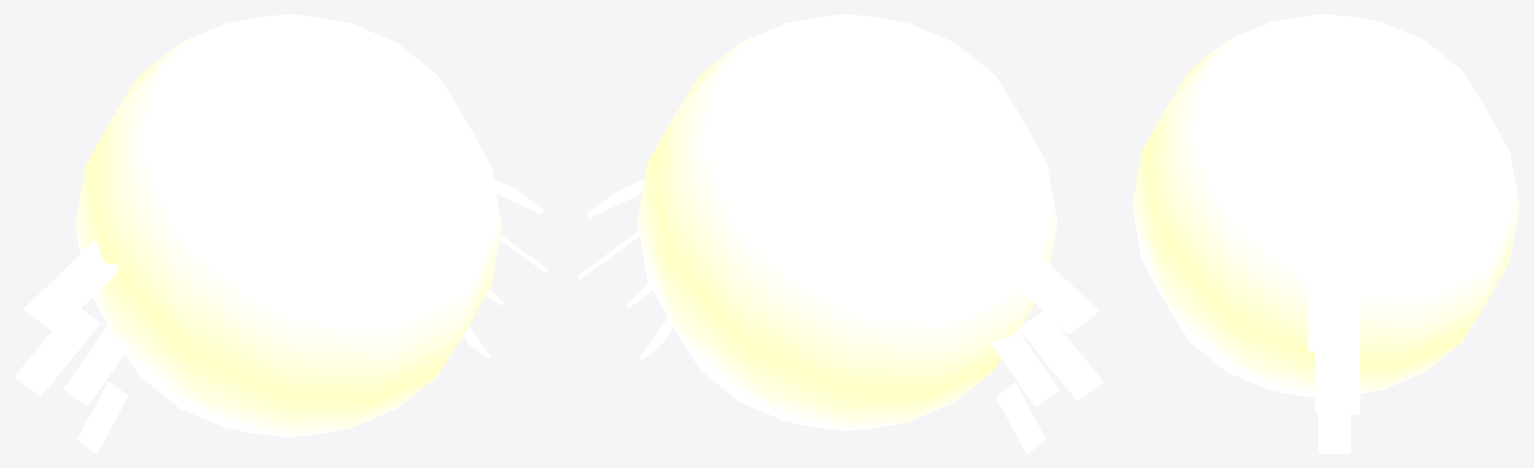
The model's file is catgod.glb.
3 renders of one model, left to right at view 1: azimuth 30°, elevation 25°; view 2: azimuth 150°, elevation 25°; view 3: azimuth 270°, elevation 25°, orthographic. The views are drawn at different scales.
Parts seen in each view (by area): view 1: aura, wing-hi-l, wing-hi-2-l, wing-lo-l, wing-lo-2-l, wing-hi-r; view 2: aura, wing-hi-l, wing-hi-2-l, wing-lo-l, wing-lo-2-l, wing-hi-r; view 3: aura, wing-hi-r, wing-hi-2-r, wing-lo-2-r.
Boxes of the visible parts, box(x1,y1,x2,y2) form: aura: box(75, 14, 501, 437); wing-hi-l: box(24, 240, 119, 332); wing-hi-2-l: box(14, 308, 100, 396); wing-lo-l: box(63, 324, 129, 406); wing-lo-2-l: box(77, 381, 128, 453); wing-hi-r: box(494, 179, 543, 214); aura: box(637, 14, 1057, 430); wing-hi-l: box(1000, 248, 1098, 334); wing-hi-2-l: box(1018, 311, 1103, 400); wing-lo-l: box(992, 330, 1059, 407); wing-lo-2-l: box(996, 383, 1046, 453); wing-hi-r: box(587, 179, 644, 218); aura: box(1132, 14, 1519, 397); wing-hi-r: box(1308, 270, 1360, 351); wing-hi-2-r: box(1317, 351, 1360, 414); wing-lo-2-r: box(1318, 414, 1350, 453).
Bounding box in the file's own units: 12.45 × 9 × 9.
